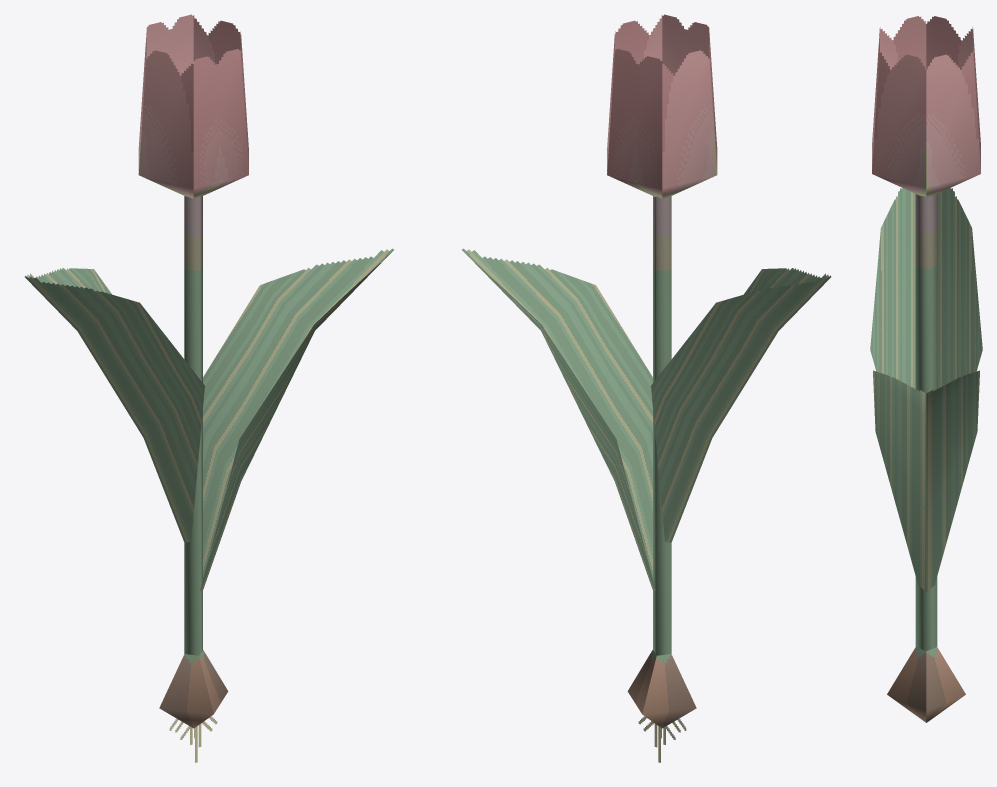
Rendered from 04c7_Pink_Tulip.glb.
The picture shows the model from 3 angles, left to right: view 1: azimuth 30°, elevation 25°; view 2: azimuth 150°, elevation 25°; view 3: azimuth 270°, elevation 25°; orthographic projection.
Visible parts, largest first — view 1: part_0; view 2: part_0; view 3: part_0.
Part boxes in pixels (x1,y1,x2,y2): part_0: (24, 14, 393, 762); part_0: (462, 14, 831, 762); part_0: (870, 16, 982, 722).
Bounding box in the file's own units: 0.2177 × 0.38 × 0.0535.
1 material, 1 textured.
